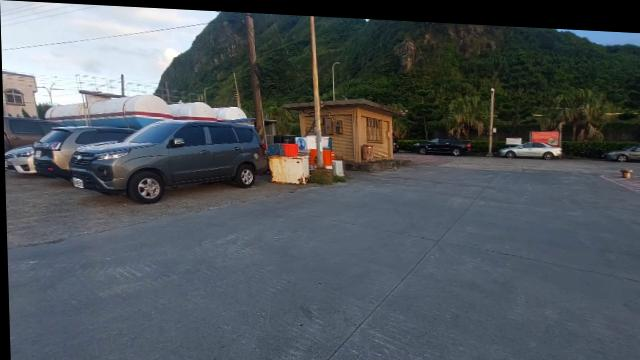pollute: (269, 153, 309, 181), (268, 140, 297, 153), (294, 134, 317, 150), (332, 155, 343, 172), (322, 131, 333, 145), (308, 147, 316, 166), (322, 148, 330, 165)
